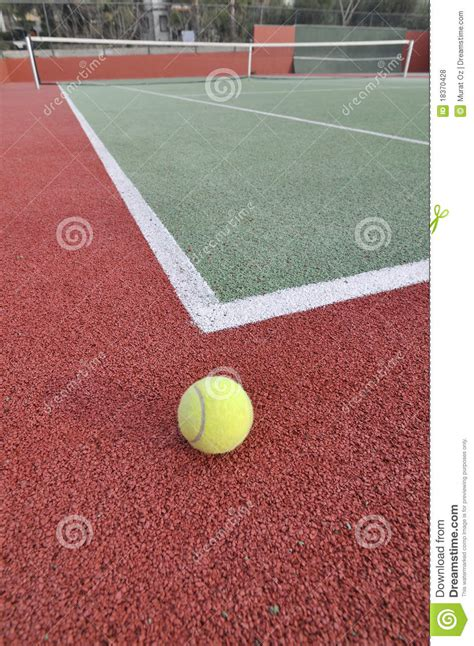tennis_ball: (176, 375, 253, 454)
